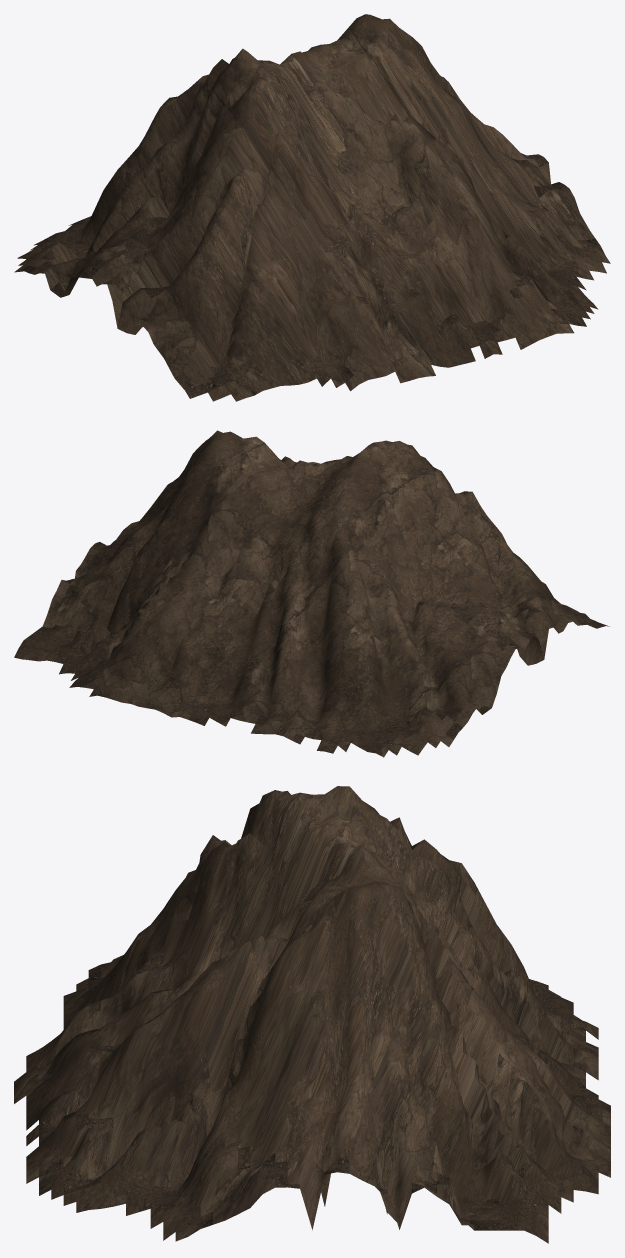
Rendered from border_peak_b_v5_dead.glb.
The picture shows the model from 3 angles, top to bottom: view 1: azimuth 30°, elevation 25°; view 2: azimuth 150°, elevation 25°; view 3: azimuth 270°, elevation 25°; orthographic projection. The views are drawn at different scales.
Visible parts, largest first — view 1: border_peak_b; view 2: border_peak_b; view 3: border_peak_b.
Boxes of the visible parts, <box> form: border_peak_b: <box>14,14,610,401</box>; border_peak_b: <box>14,430,609,757</box>; border_peak_b: <box>14,786,610,1243</box>.
Size of the model in its own units: 1 by 0.4988 by 0.9412.
Materials: 2 (2 with a texture image).
